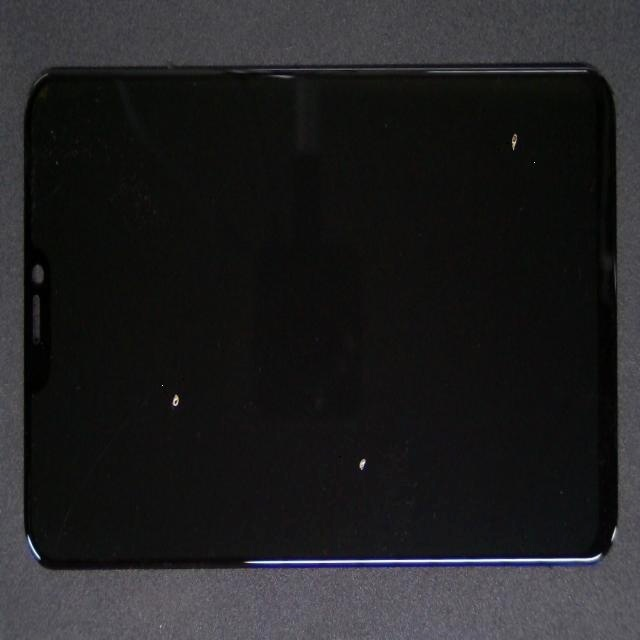stain: (169, 237, 507, 640), (219, 57, 640, 226), (74, 205, 223, 617)
